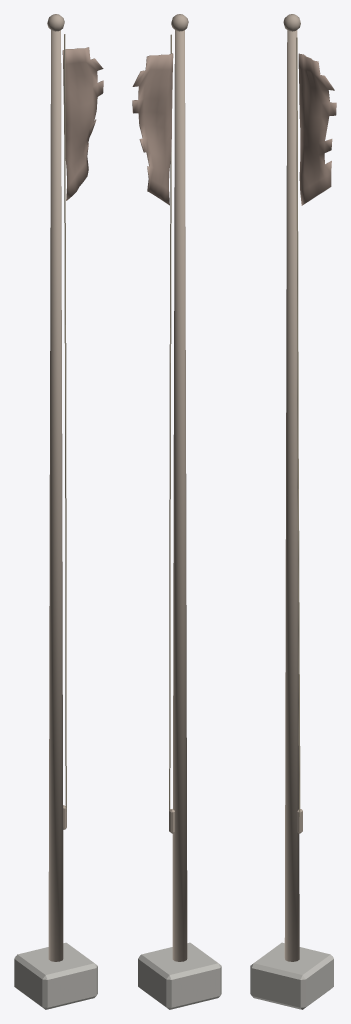
Rendered from flagpole.glb.
3 views of the same model, side by side, from view 1: azimuth 30°, elevation 25°; view 2: azimuth 210°, elevation 25°; view 3: azimuth 330°, elevation 25° (orthographic).
Visible parts, largest first — view 1: flagpole; view 2: flagpole; view 3: flagpole.
Boxes of the visible parts, box(x1,y1,x2,y2) form: flagpole: box(14, 14, 103, 1009); flagpole: box(132, 14, 221, 1009); flagpole: box(250, 14, 336, 1009).
Size of the model in its own units: 0.6631 by 8.42 by 0.5.
